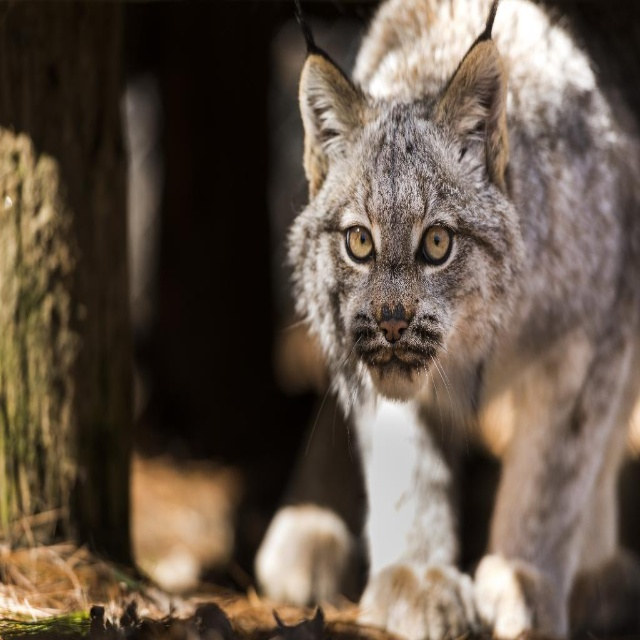Lynx: (274, 0, 640, 639)
